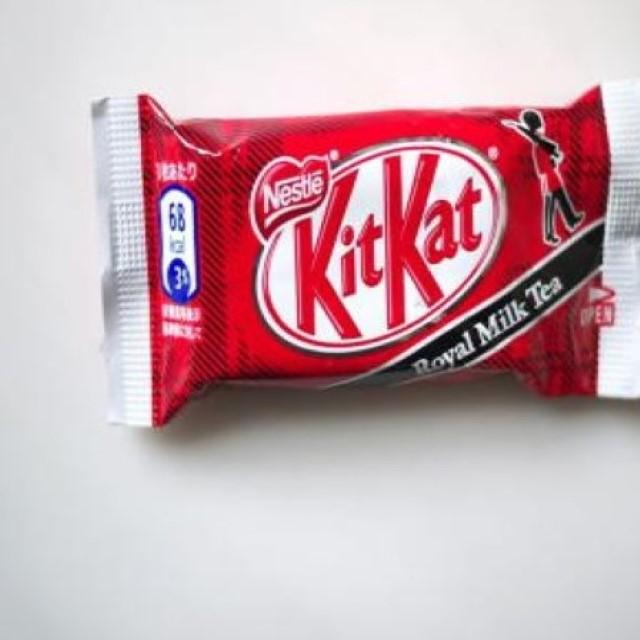kitkat_chocolate: (115, 110, 598, 378)
